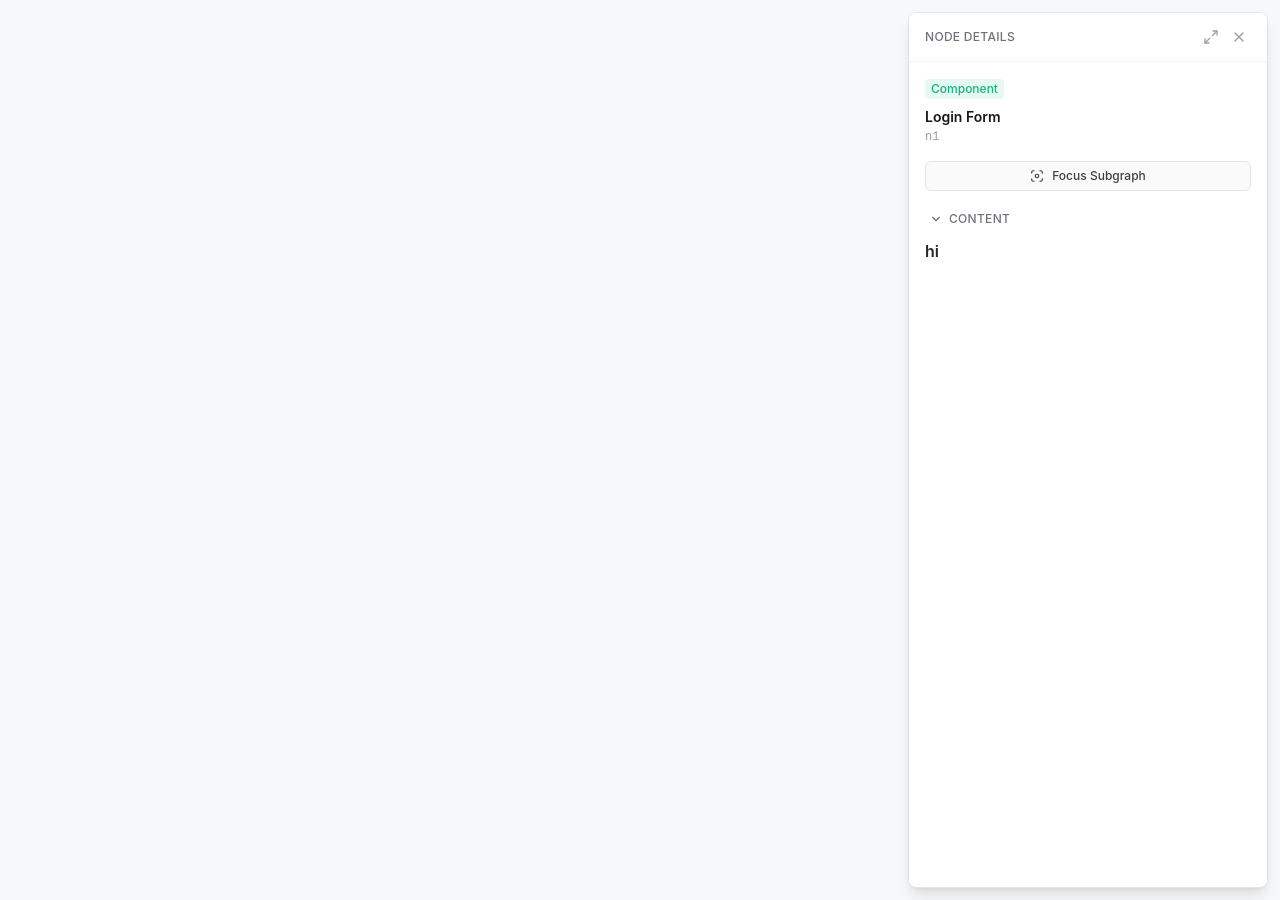
Test: NodeDetailPanel resize › renders no resize handle when the panel is expanded
Click the button named "expand details" at (1211, 37), box [1199,25,1223,49]
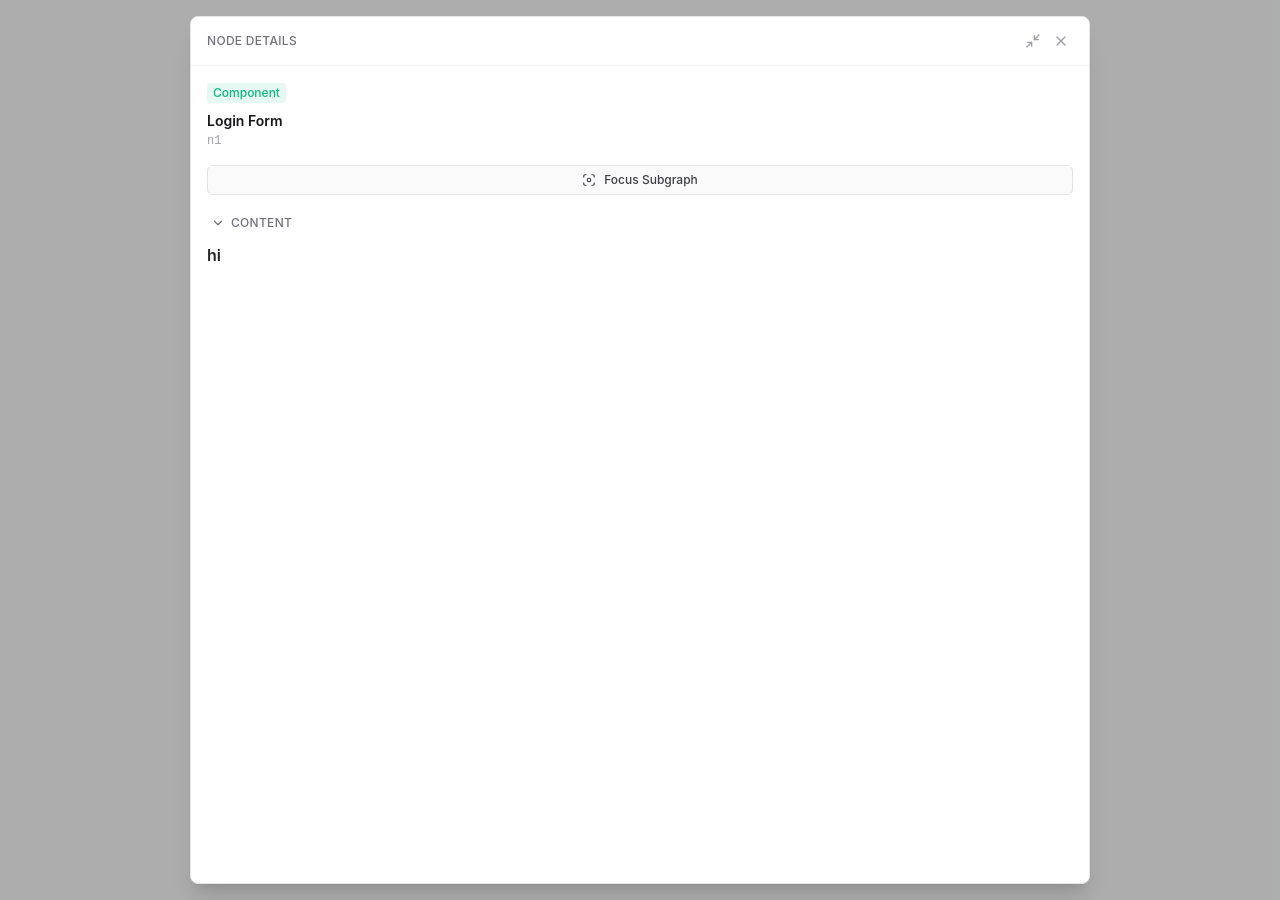
Expected: the element with test id "detail-resize-handle" is gone
